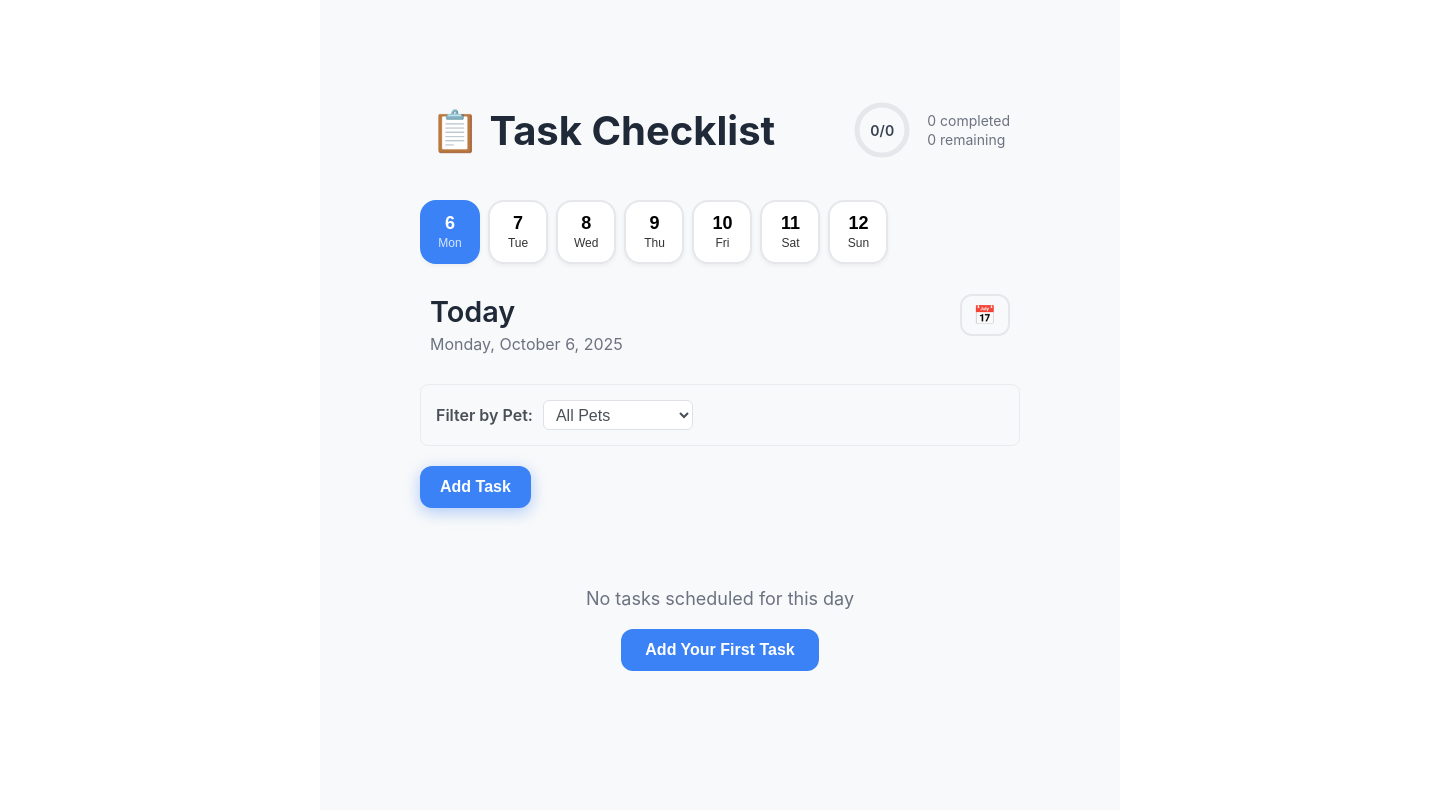
Test: TaskChecklist › resets form and closes modal after successful task creation
Click the button "Add Task": x=475, y=487 top-left (420, 466), bottom-right (531, 508)
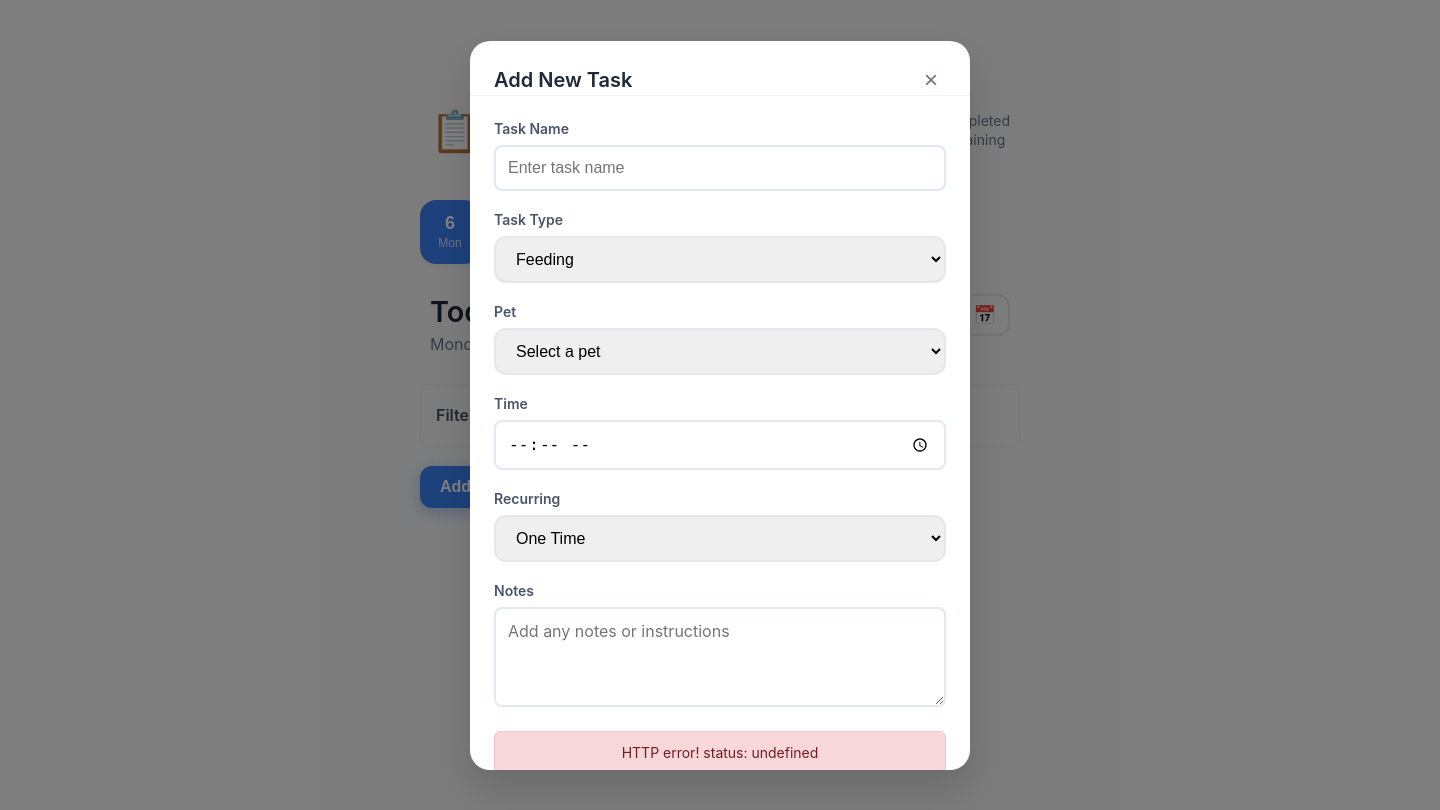
In the field labelled "Task Name": x=720, y=168 top-left (494, 144), bottom-right (946, 190), type "Feed Buddy"
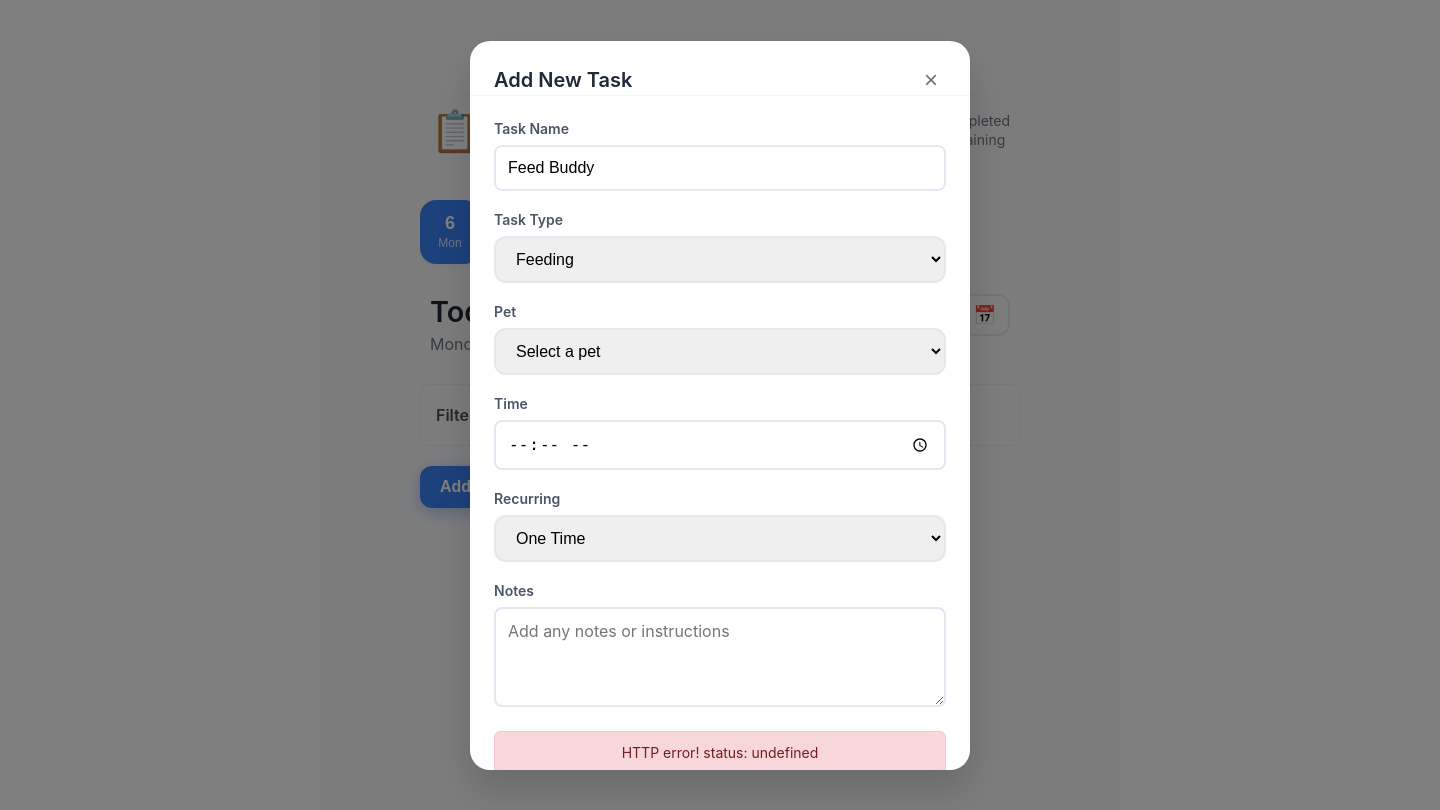
Select "Buddy" in the dropdown labelled "Pet": x=720, y=351 top-left (494, 328), bottom-right (946, 374)
(page scrolled)
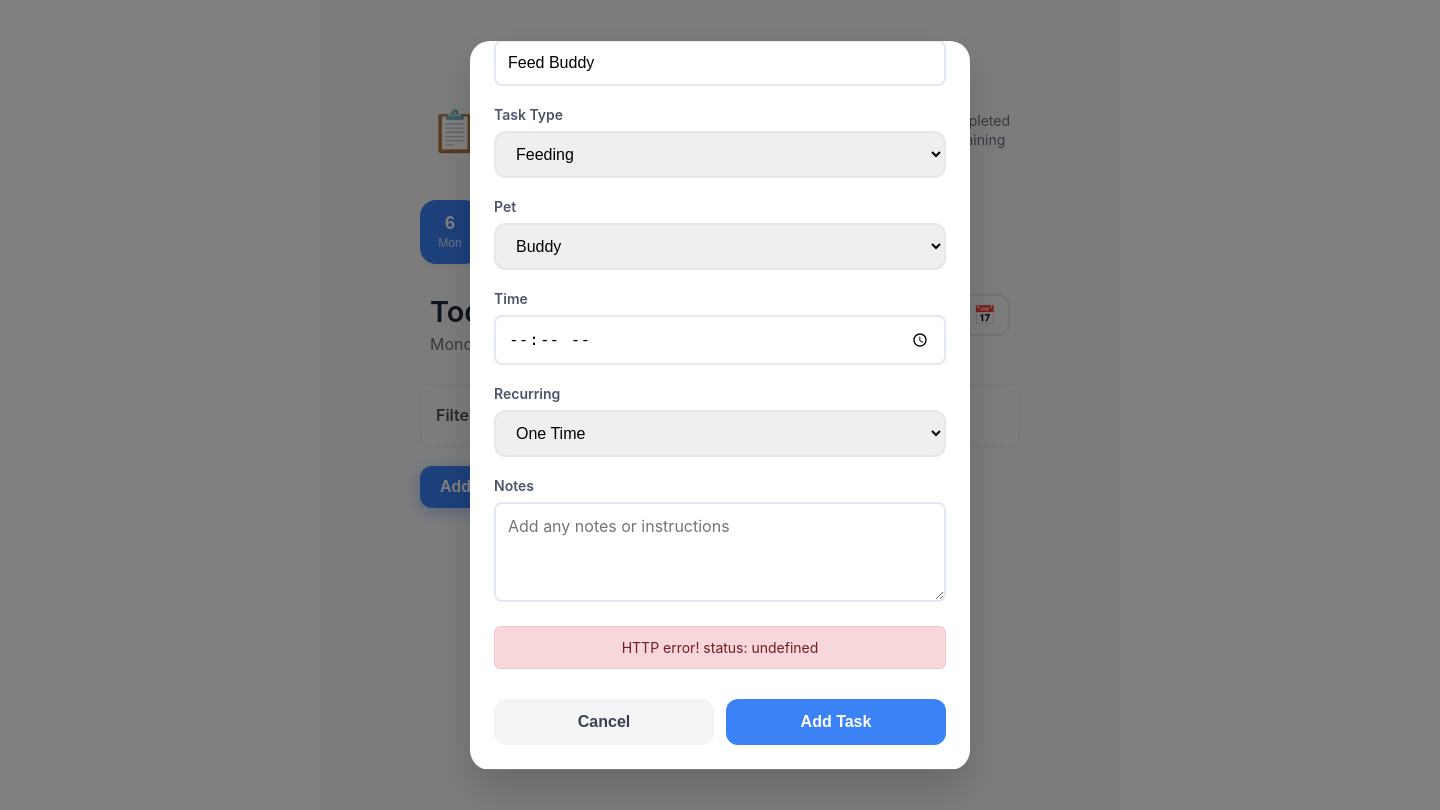
Click the button "Add Task" below "Notes": x=836, y=722 top-left (726, 699), bottom-right (946, 745)
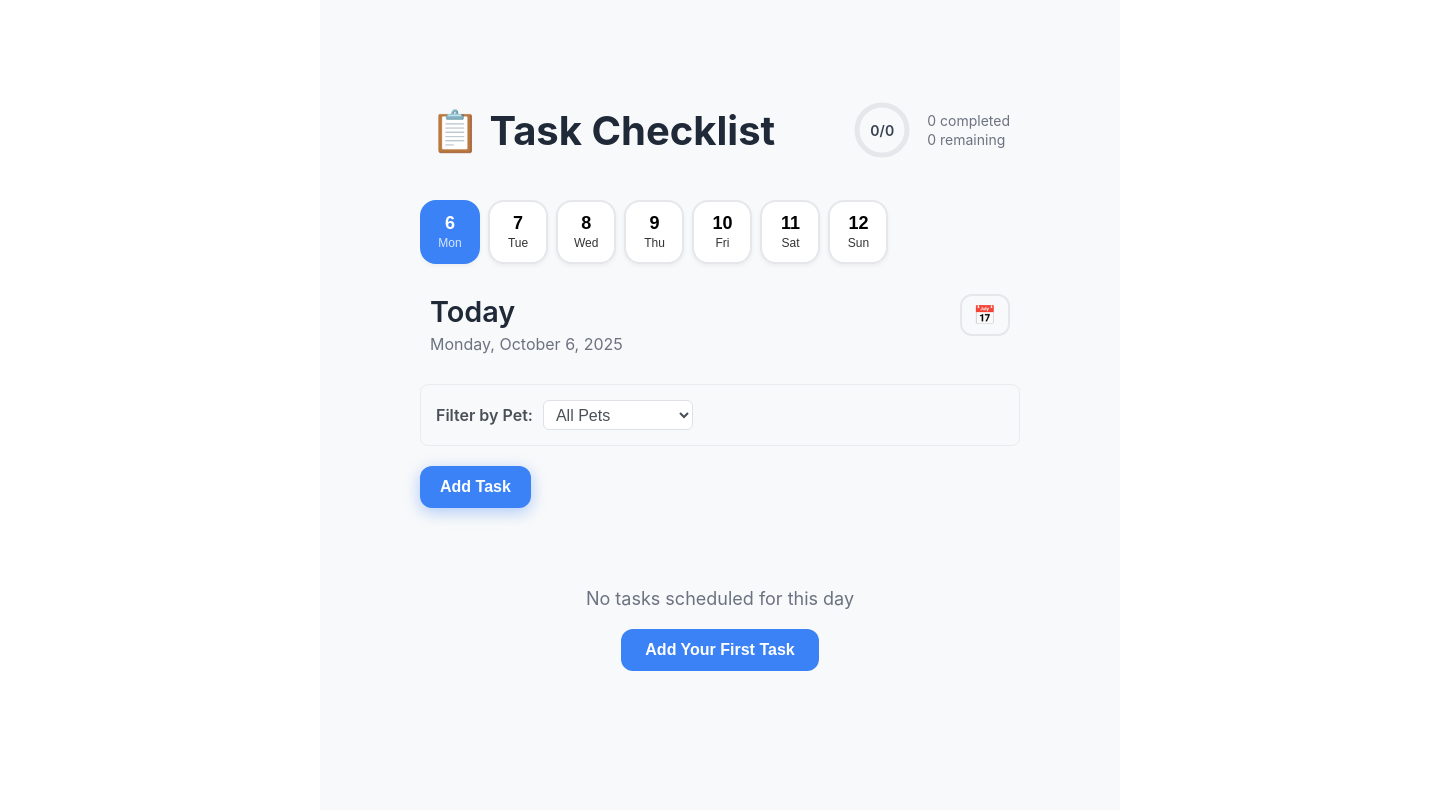
Result: the dialog is gone
Result: the text with test id "task-error" is gone
